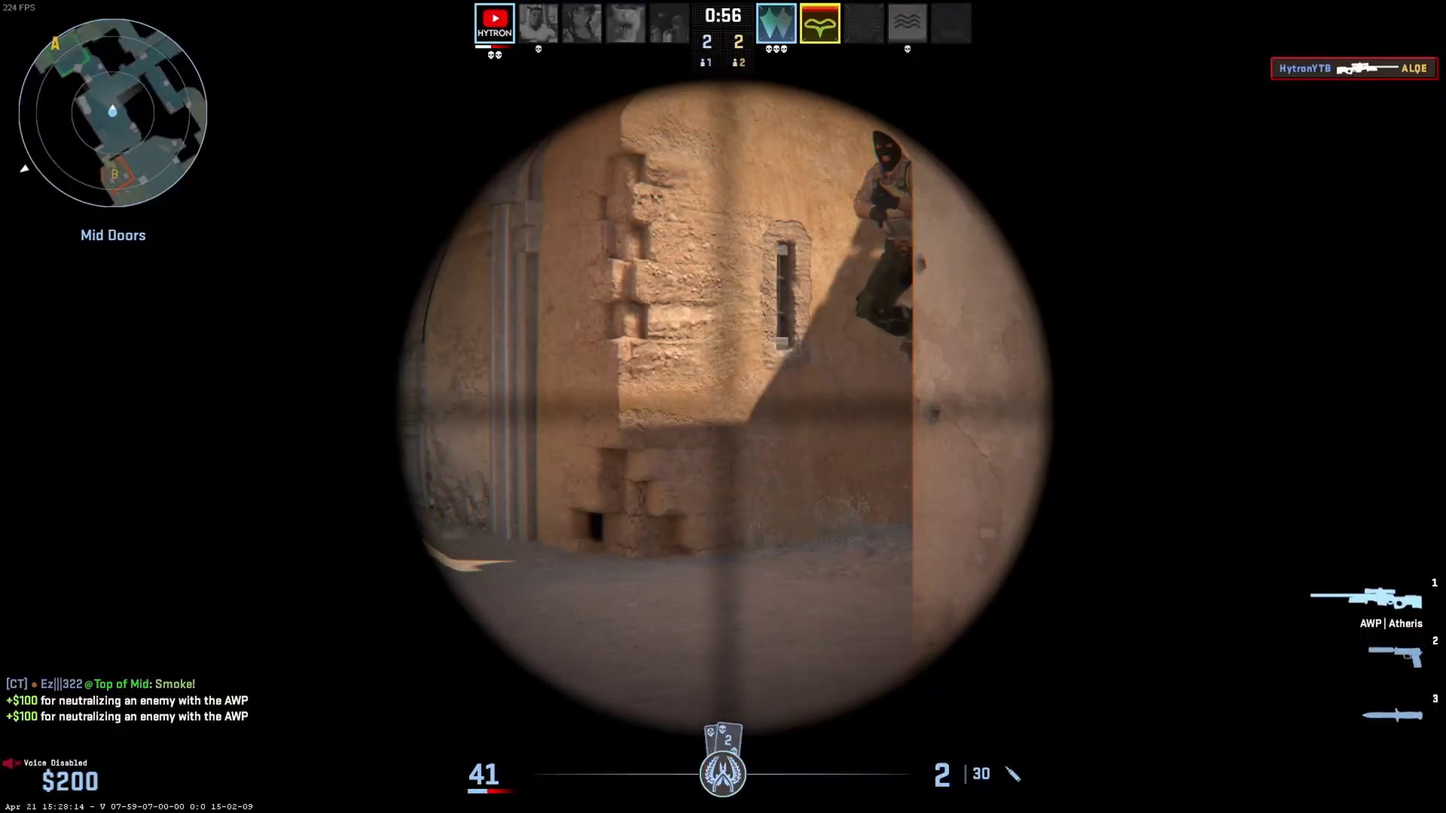Terrorist: (854, 124, 918, 341)
